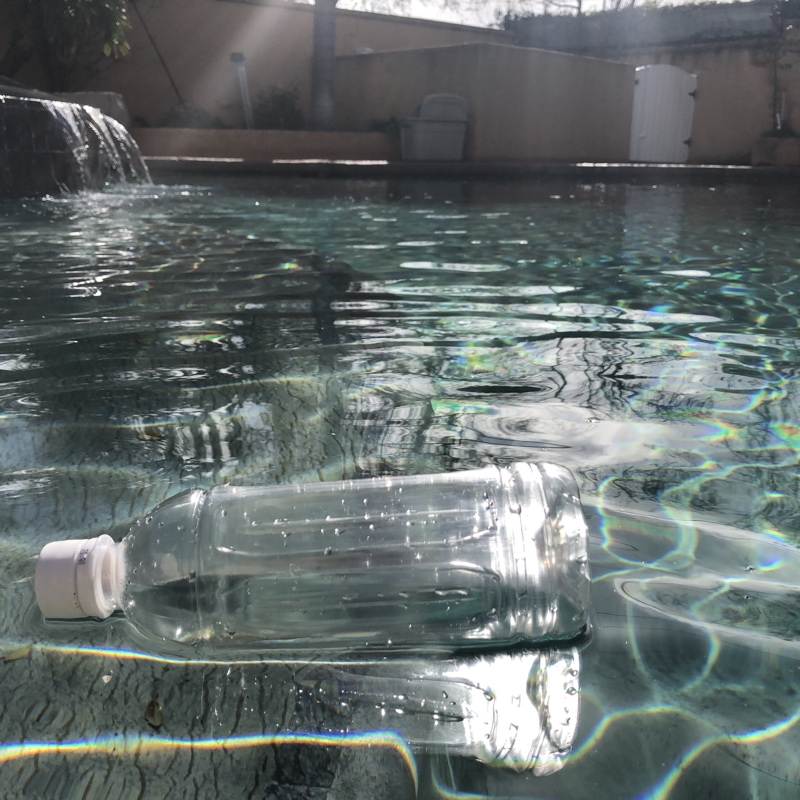Plastic Bottle: (29, 454, 599, 660)
